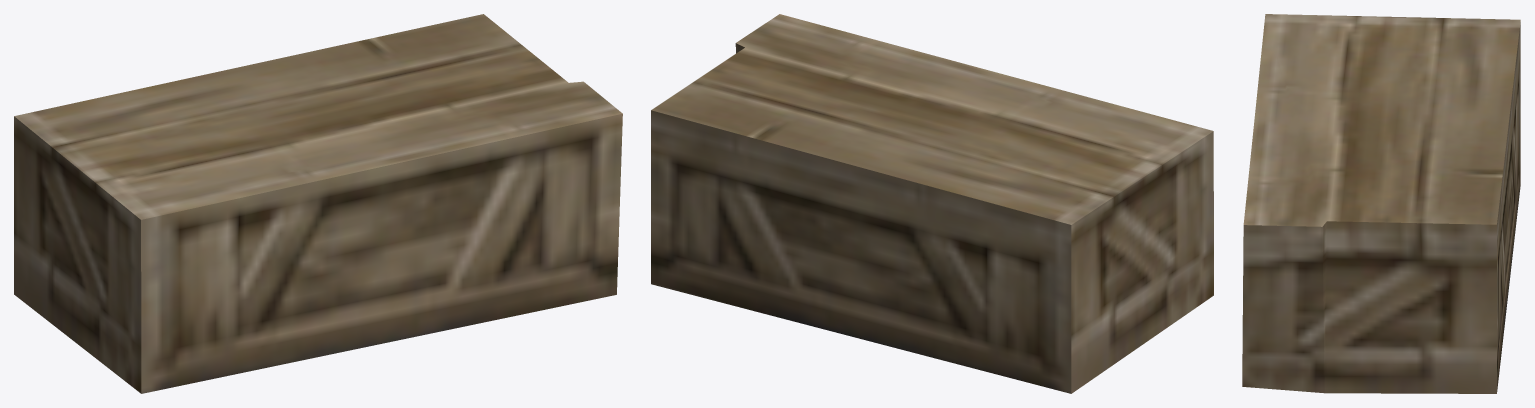
File: Zahuopu02.FBX
3 views of the same model, side by side, from view 1: azimuth 30°, elevation 25°; view 2: azimuth 150°, elevation 25°; view 3: azimuth 270°, elevation 25° (orthographic). The views are drawn at different scales.
Parts seen in each view (by area): view 1: zahuopu02; view 2: zahuopu02; view 3: zahuopu02.
Boxes of the visible parts, x1,y1,x2,y2 form: zahuopu02: [14, 14, 622, 393]; zahuopu02: [651, 14, 1213, 393]; zahuopu02: [1242, 14, 1520, 393].
Bounding box in the file's own units: 47.99 × 17.83 × 26.54.
Materials: 1 (1 with a texture image).
